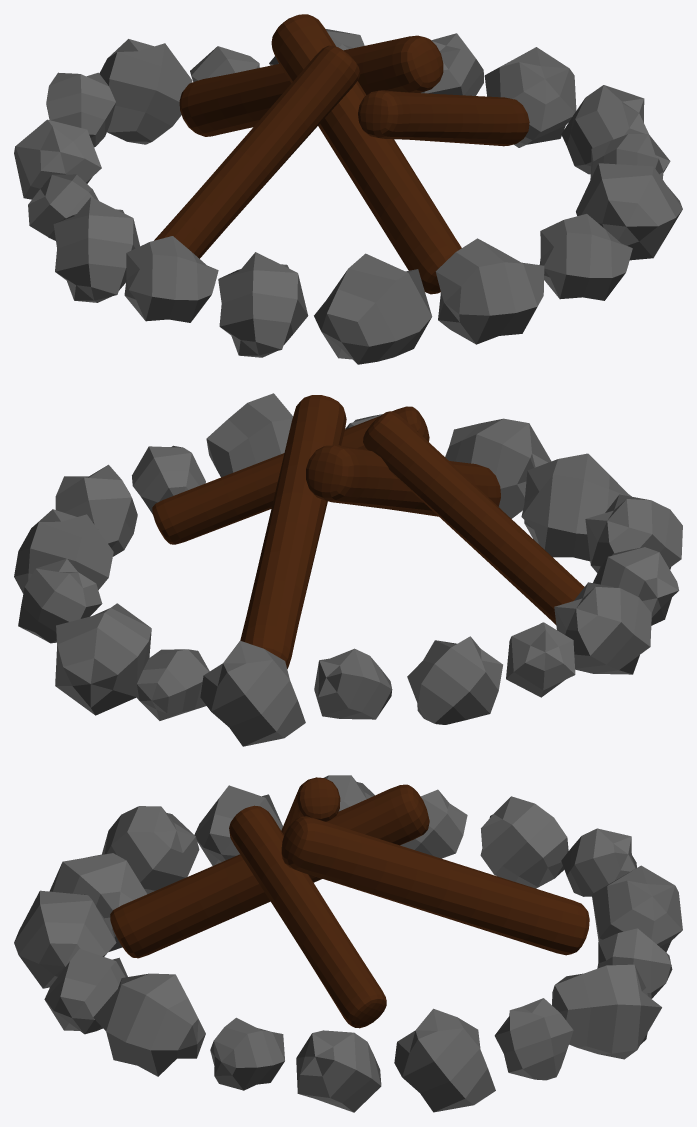
File: campfire_nofire.fbx
The picture shows the model from 3 angles, top to bottom: view 1: azimuth 30°, elevation 25°; view 2: azimuth 150°, elevation 25°; view 3: azimuth 270°, elevation 25°; orthographic projection. The views are drawn at different scales.
Parts seen in each view (by area): view 1: Cube.001, Sphere.017, Sphere, Sphere.015, Sphere.010, Sphere.002, Sphere.014, Sphere.016, Sphere.001, Sphere.005, Sphere.012, Sphere.004 (+6 smaller); view 2: Cube.001, Sphere.008, Sphere.010, Sphere.017, Sphere.014, Sphere.012, Sphere, Sphere.015, Sphere.005, Sphere.002, Sphere.006, Sphere.011 (+5 smaller); view 3: Cube.001, Sphere.002, Sphere.008, Sphere.005, Sphere, Sphere.012, Sphere.015, Sphere.004, Sphere.010, Sphere.006, Sphere.001, Sphere.003 (+6 smaller).
Part boxes in pixels (x1,y1,x2,y2): Cube.001: (154, 14, 529, 294); Sphere.017: (314, 253, 432, 364); Sphere: (435, 238, 544, 344); Sphere.015: (218, 252, 308, 357); Sphere.010: (99, 39, 192, 144); Sphere.002: (576, 163, 682, 260); Sphere.014: (53, 197, 139, 302); Sphere.016: (124, 236, 218, 322); Sphere.001: (539, 214, 632, 300); Sphere.005: (484, 47, 576, 147); Sphere.012: (14, 119, 101, 199); Sphere.004: (561, 85, 648, 174); Cube.001: (152, 395, 584, 668); Sphere.008: (55, 603, 151, 715); Sphere.010: (200, 640, 305, 746); Sphere.017: (521, 453, 631, 561); Sphere.014: (554, 582, 651, 674); Sphere.012: (407, 636, 502, 724); Sphere: (445, 418, 551, 518); Sphere.015: (585, 494, 682, 572); Sphere.005: (14, 509, 113, 593); Sphere.002: (206, 393, 292, 477); Sphere.006: (18, 558, 102, 643); Sphere.011: (314, 648, 392, 719); Cube.001: (110, 777, 589, 1028); Sphere.002: (93, 973, 205, 1076); Sphere.008: (552, 964, 661, 1059); Sphere.005: (394, 1008, 495, 1112); Sphere: (14, 890, 116, 988); Sphere.012: (480, 796, 568, 888); Sphere.015: (102, 806, 199, 893); Sphere.004: (296, 1030, 381, 1112); Sphere.010: (591, 865, 682, 952); Sphere.006: (494, 998, 573, 1080); Sphere.001: (44, 948, 127, 1034); Sphere.003: (210, 1017, 284, 1090).
Size of the model in its own units: 658 by 236 by 662.
